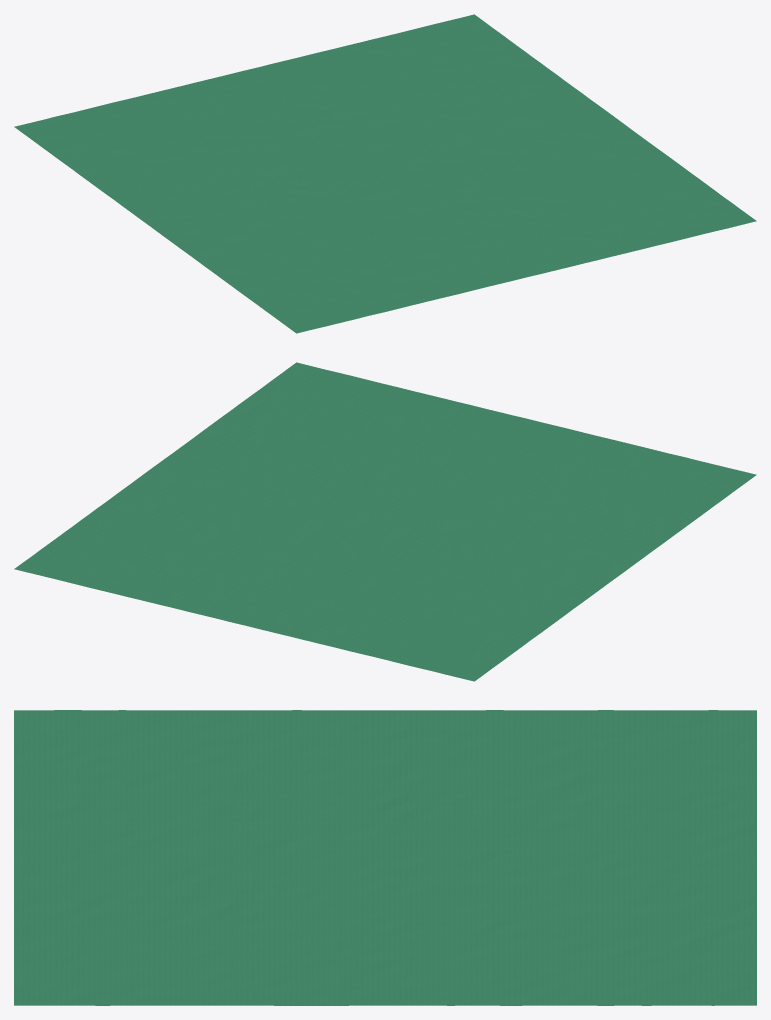
The model's file is ground_pad.glb.
3 views of the same model, one above another, from view 1: azimuth 30°, elevation 25°; view 2: azimuth 150°, elevation 25°; view 3: azimuth 270°, elevation 25° (orthographic). The views are drawn at different scales.
Parts seen in each view (by area): view 1: ground_pad; view 2: ground_pad; view 3: ground_pad.
Part boxes in pixels (x1=…): ground_pad: x1=14, y1=14, x2=756, y2=333; ground_pad: x1=14, y1=362, x2=756, y2=681; ground_pad: x1=14, y1=710, x2=756, y2=1005.
Size of the model in its own units: 128 by 0.06 by 136.
1 material, 1 textured.
